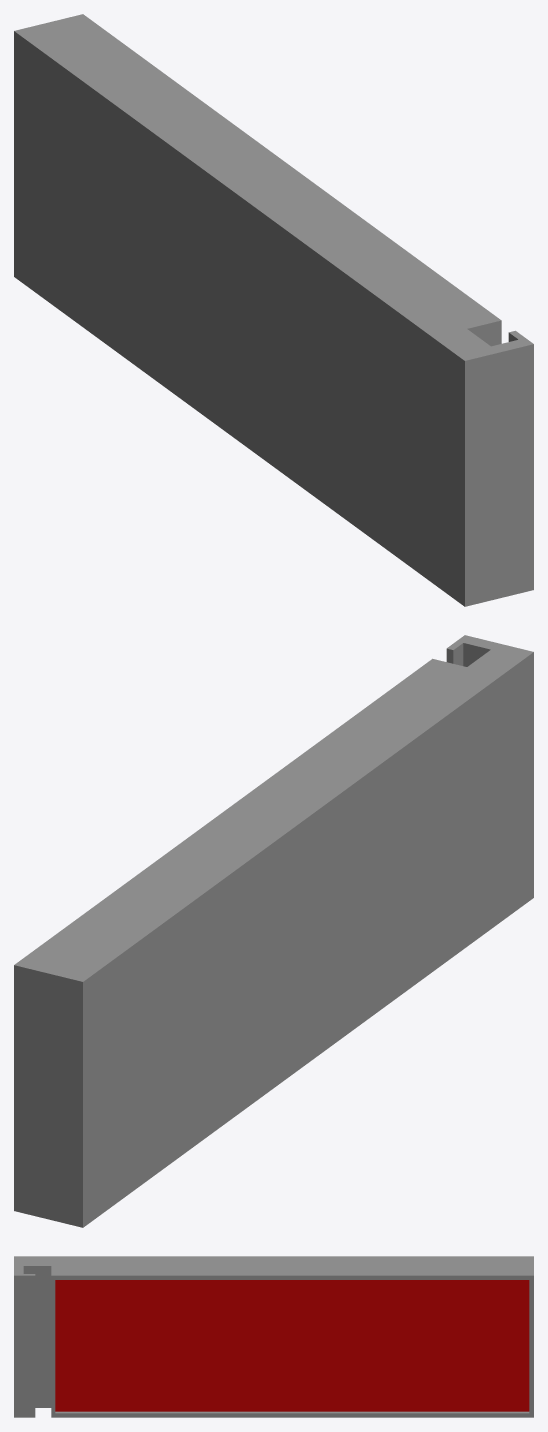
The model's file is ROOM602-KITCHEN-BODYSET4_link_mesh.dae.
3 views of the same model, one above another, from view 1: azimuth 30°, elevation 25°; view 2: azimuth 150°, elevation 25°; view 3: azimuth 270°, elevation 25° (orthographic). The views are drawn at different scales.
Parts seen in each view (by area): view 1: ROOM602-KITCHEN-BODYSET4_link; view 2: ROOM602-KITCHEN-BODYSET4_link; view 3: ROOM602-KITCHEN-BODYSET4_link (×2).
Boxes of the visible parts, x1,y1,x2,y2 form: ROOM602-KITCHEN-BODYSET4_link: (14, 14, 533, 606); ROOM602-KITCHEN-BODYSET4_link: (14, 635, 533, 1227); ROOM602-KITCHEN-BODYSET4_link (×2): (14, 1256, 533, 1417).
Bounding box in the file's own units: 0.05 × 0.17 × 0.565.
